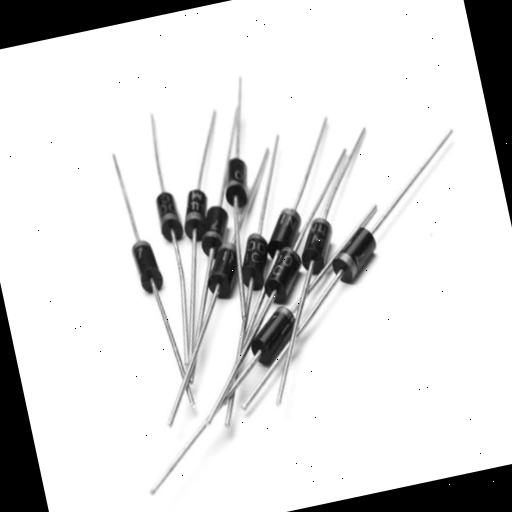DIODE: (67, 34, 512, 494), (220, 286, 350, 399), (320, 199, 394, 315), (242, 234, 324, 324), (116, 222, 176, 318), (290, 201, 354, 287), (214, 142, 266, 242), (185, 225, 244, 308), (260, 184, 310, 271), (192, 182, 242, 264), (169, 174, 216, 260), (146, 175, 198, 250), (236, 233, 278, 305)
